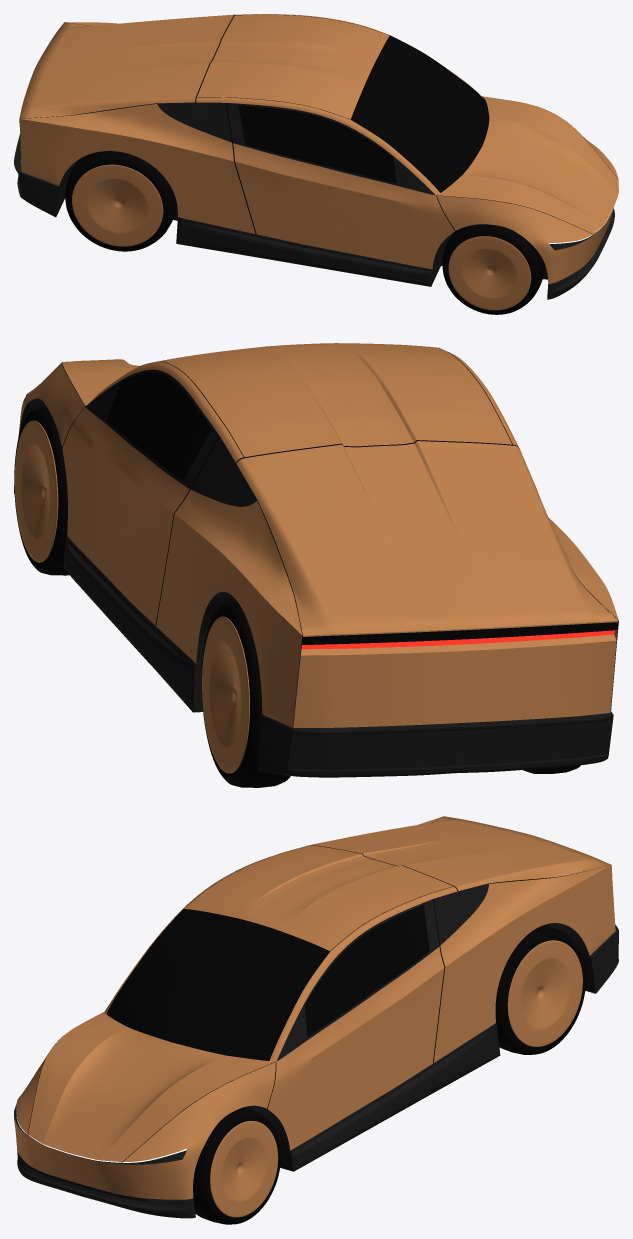
File: cybercab.glb
The picture shows the model from 3 angles, top to bottom: view 1: azimuth 30°, elevation 25°; view 2: azimuth 150°, elevation 25°; view 3: azimuth 270°, elevation 25°; orthographic projection. The views are drawn at different scales.
Parts seen in each view (by area): view 1: Cube; view 2: Cube; view 3: Cube.
Part boxes in pixels (box(x1,y1,x2,y2)): Cube: box(14, 14, 618, 314); Cube: box(14, 343, 618, 787); Cube: box(14, 816, 618, 1224).
Bounding box in the file's own units: 2.77 × 1.16 × 2.65.
